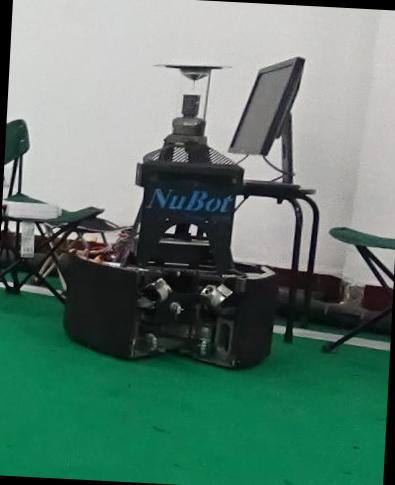robot: (64, 66, 276, 367)
